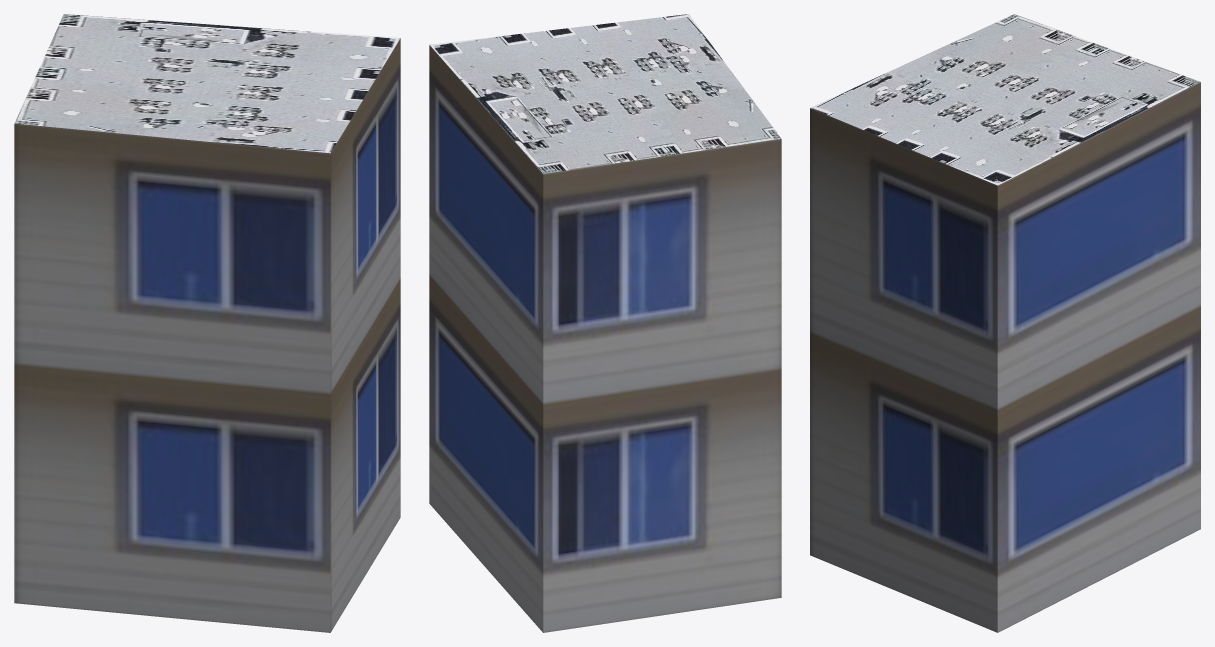
The model's file is ResTex__1678.fbx.
The picture shows the model from 3 angles, left to right: view 1: azimuth 30°, elevation 25°; view 2: azimuth 150°, elevation 25°; view 3: azimuth 270°, elevation 25°; orthographic projection. The views are drawn at different scales.
Visible parts, largest first — view 1: CityEngineMaterial_23_m, CityEngineMaterial_8_m; view 2: CityEngineMaterial_23_m, CityEngineMaterial_8_m; view 3: CityEngineMaterial_23_m, CityEngineMaterial_8_m.
Boxes of the visible parts, box(x1,y1,x2,y2) form: CityEngineMaterial_23_m: box(14, 38, 400, 632); CityEngineMaterial_8_m: box(14, 14, 400, 153); CityEngineMaterial_23_m: box(429, 45, 781, 632); CityEngineMaterial_8_m: box(429, 14, 781, 173); CityEngineMaterial_23_m: box(810, 82, 1200, 632); CityEngineMaterial_8_m: box(810, 14, 1200, 185).
Bounding box in the file's own units: 4.94 × 6 × 4.75.
Materials: 2 (2 with a texture image).
